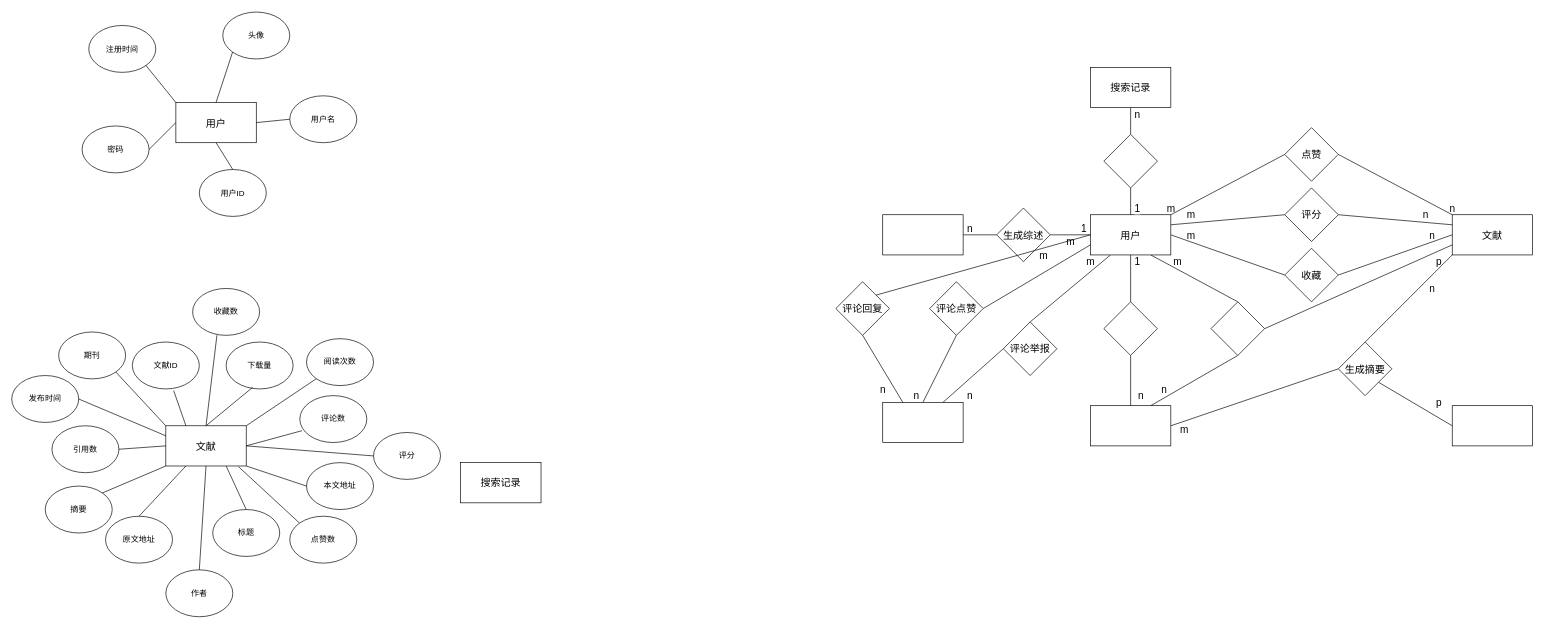
Image size: 1544x628. Some labels were removed from this diagram. Each missing label, with the centre of its shape:
"上传" belongs at (1130,328).
"单篇摘要" belongs at (1492,425).
"对话记录" belongs at (1237,328).
"搜索文献" belongs at (1130,161).
"本地文献" belongs at (1130,425).
"综述报告记录" belongs at (922,234).
"评论" belongs at (922,422).
